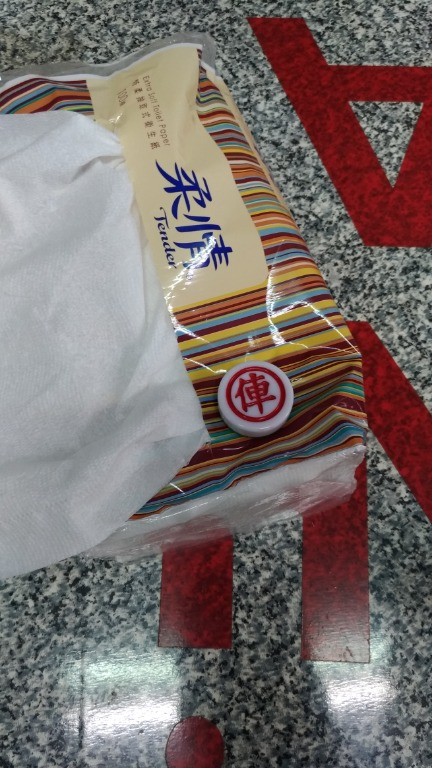r-rook: (214, 356, 305, 443)
